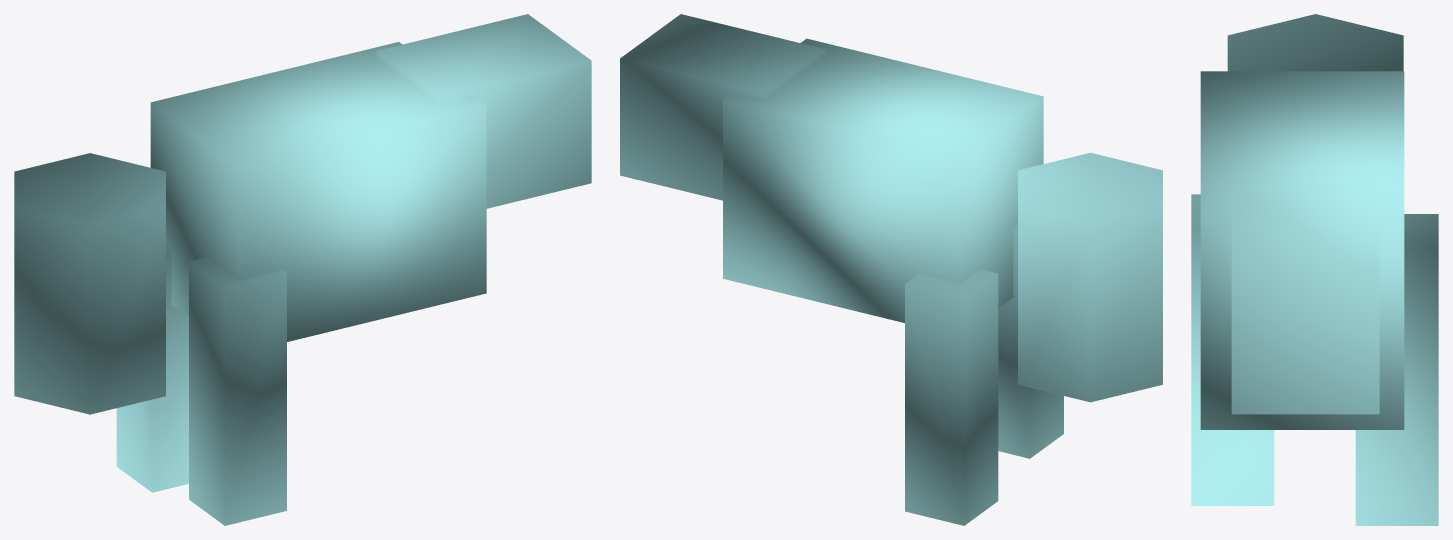
Rendered from ps2_jrpg_undead_revenant_warrior_enemy.obj.
3 views of the same model, side by side, from view 1: azimuth 30°, elevation 25°; view 2: azimuth 150°, elevation 25°; view 3: azimuth 270°, elevation 25° (orthographic). The views are drawn at different scales.
Size of the model in its own units: 1.57 by 1.04 by 0.5353.
